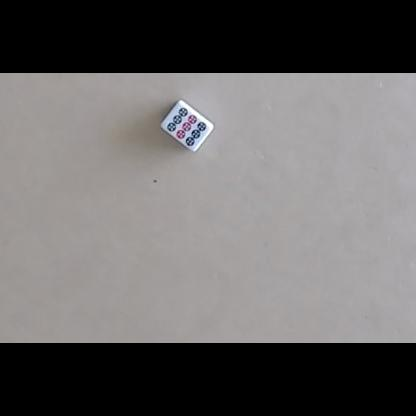9p: (167, 107, 207, 147)
